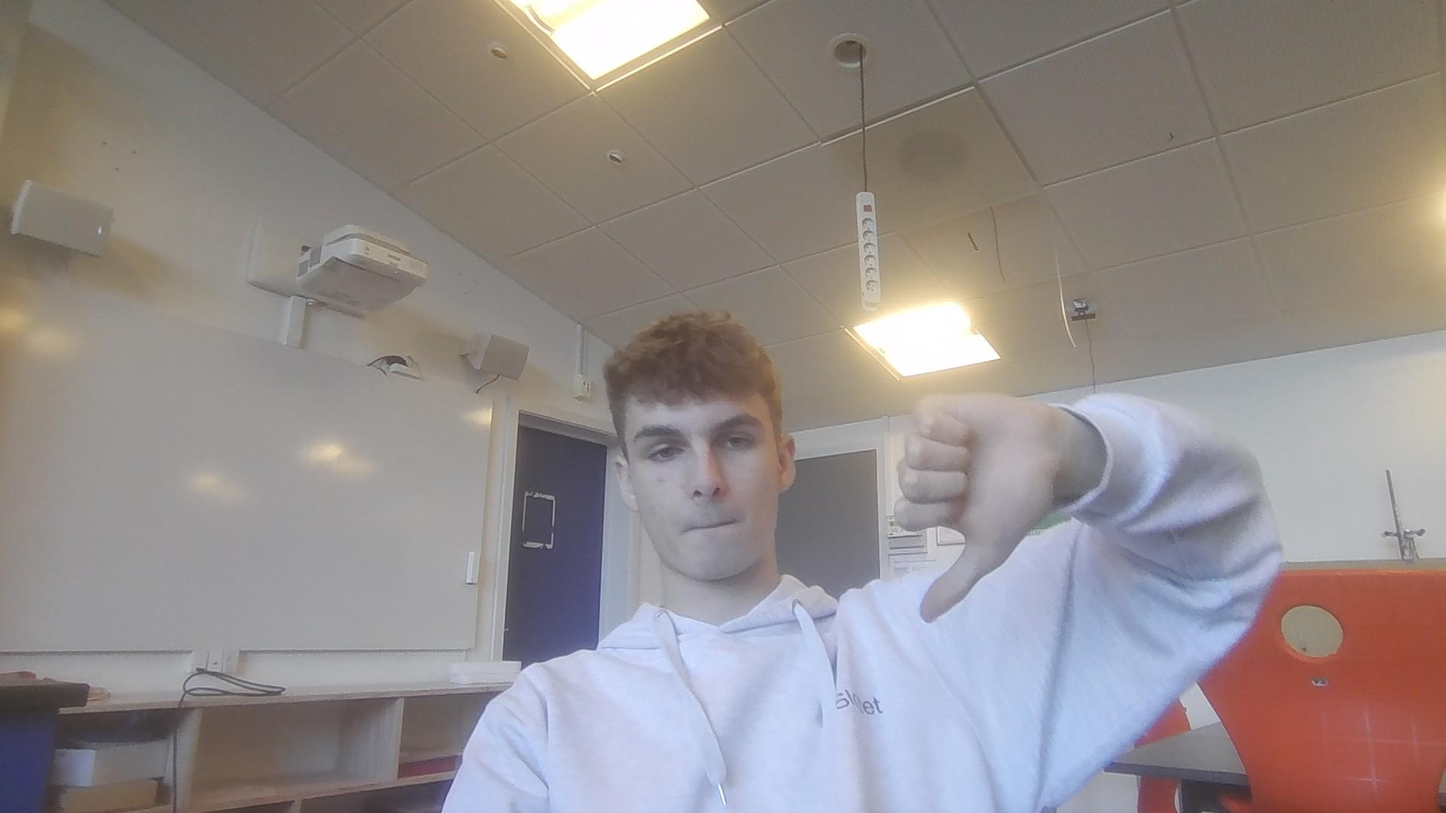thumbs down: (891, 386, 1077, 632)
